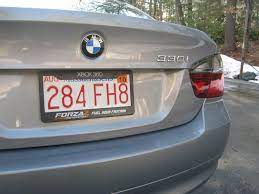number_plates: (44, 83, 132, 108)
